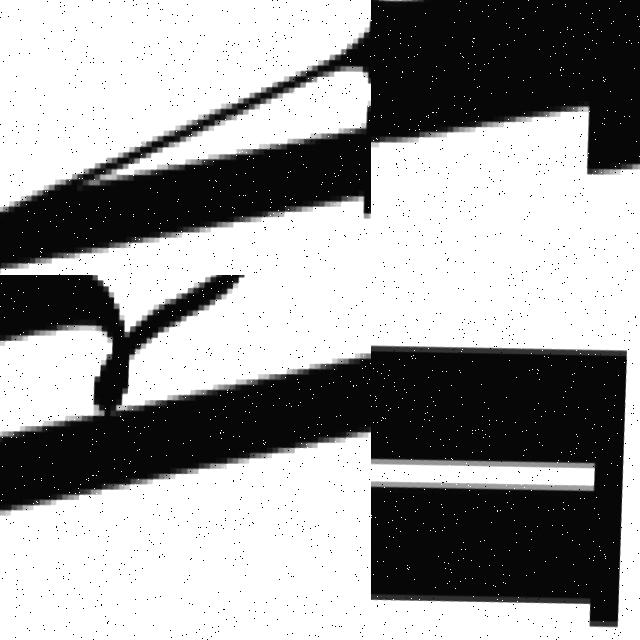K: (0, 275, 371, 624)
T: (371, 0, 640, 246)
U: (371, 275, 640, 640)
Y: (0, 0, 371, 275)
